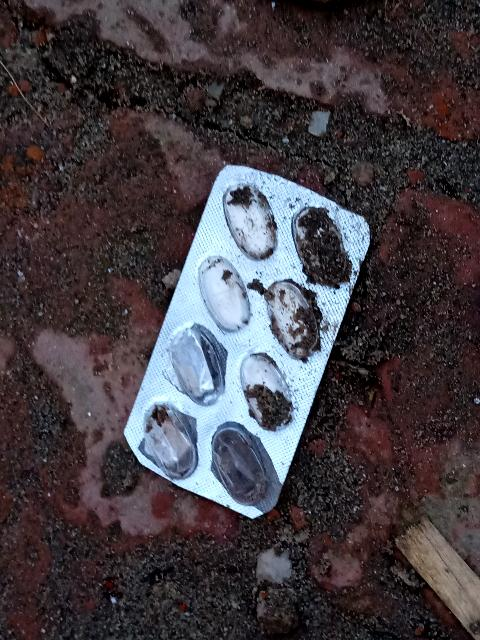medicine: (105, 153, 385, 525)
